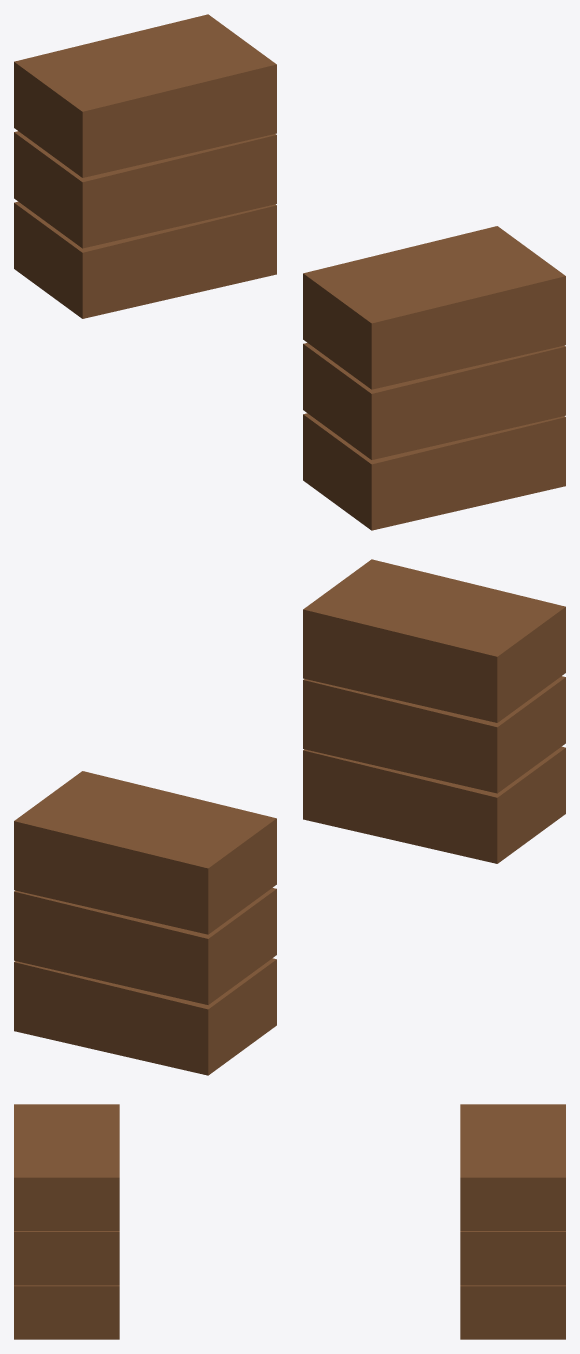
File: Cajones.obj
3 renders of one model, top to bottom at view 1: azimuth 30°, elevation 25°; view 2: azimuth 150°, elevation 25°; view 3: azimuth 270°, elevation 25°, orthographic. The views are drawn at different scales.
Visible parts, largest first — view 1: Cajones; view 2: Cajones; view 3: Cajones.
Part boxes in pixels (x1,y1,x2,y2): Cajones: [14, 14, 565, 530]; Cajones: [14, 559, 565, 1075]; Cajones: [14, 1104, 565, 1339].
Bounding box in the file's own units: 2.3 × 2.38 × 7.34.
